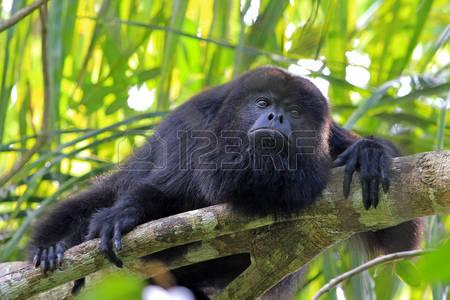monkey: (27, 66, 402, 271)
